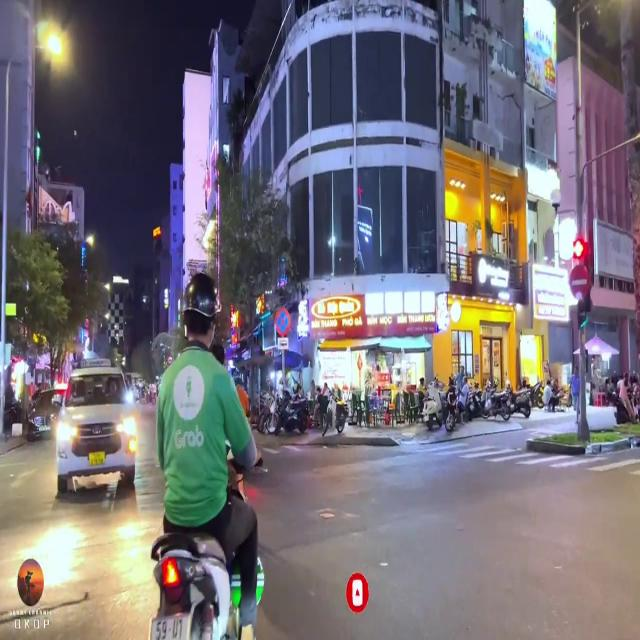bien_trang: (151, 613, 191, 640)
bien_vang: (88, 450, 105, 470)
